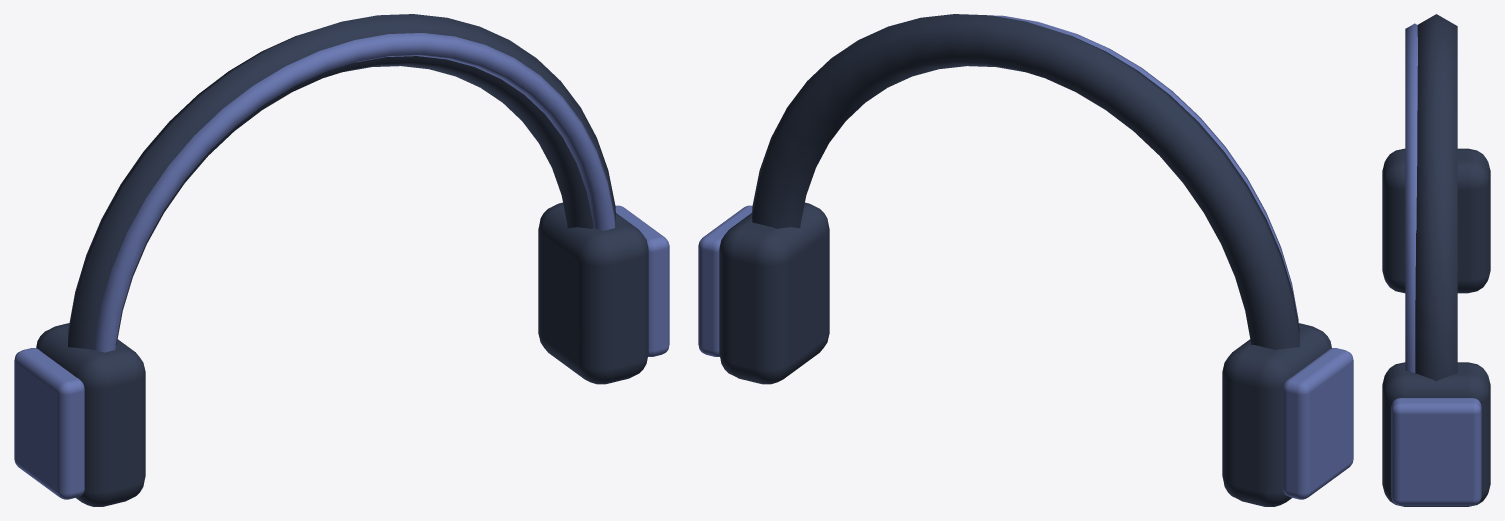
File: objeto-headphones.glb
The picture shows the model from 3 angles, left to right: view 1: azimuth 30°, elevation 25°; view 2: azimuth 150°, elevation 25°; view 3: azimuth 270°, elevation 25°; orthographic projection. The views are drawn at different scales.
Visible parts, largest first — view 1: equipment:headphones; view 2: equipment:headphones; view 3: equipment:headphones.
Part boxes in pixels (x1,y1,x2,y2): equipment:headphones: (14, 14, 669, 506); equipment:headphones: (698, 14, 1353, 506); equipment:headphones: (1382, 14, 1490, 506).
Bounding box in the file's own units: 0.68 × 0.432 × 0.12.
